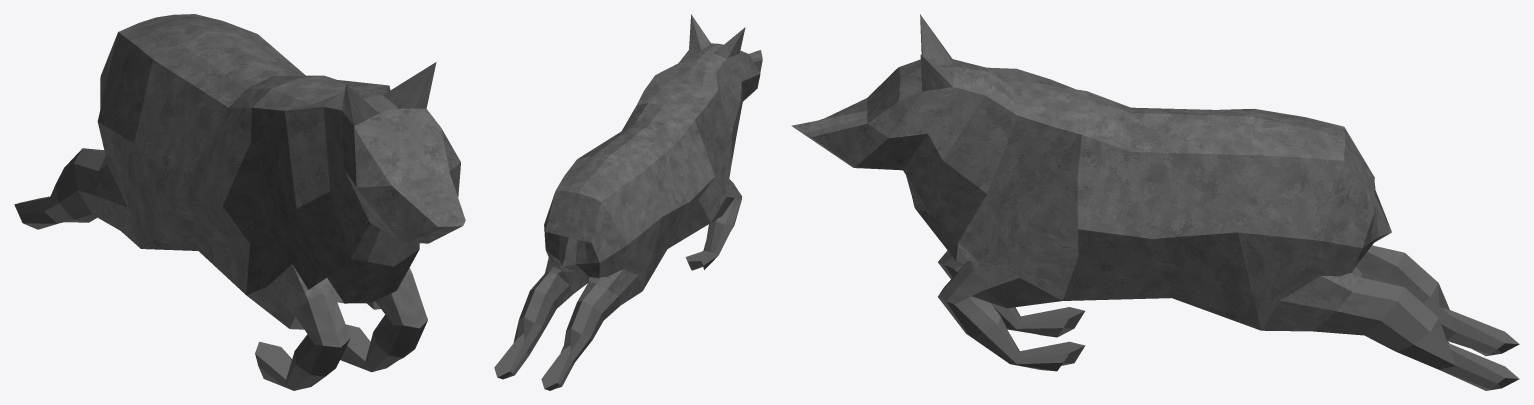
File: piesblend_000022.obj
3 renders of one model, left to right at view 1: azimuth 30°, elevation 25°; view 2: azimuth 150°, elevation 25°; view 3: azimuth 270°, elevation 25°, orthographic. The views are drawn at different scales.
Visible parts, largest first — view 1: Cube; view 2: Cube; view 3: Cube.
Boxes of the visible parts, left/top/right/bottom form: Cube: left=14, top=14, right=465, bottom=390; Cube: left=494, top=14, right=762, bottom=390; Cube: left=791, top=14, right=1519, bottom=390.
Bounding box in the file's own units: 2.56 × 5.73 × 11.12.
Materials: 1 (1 with a texture image).
